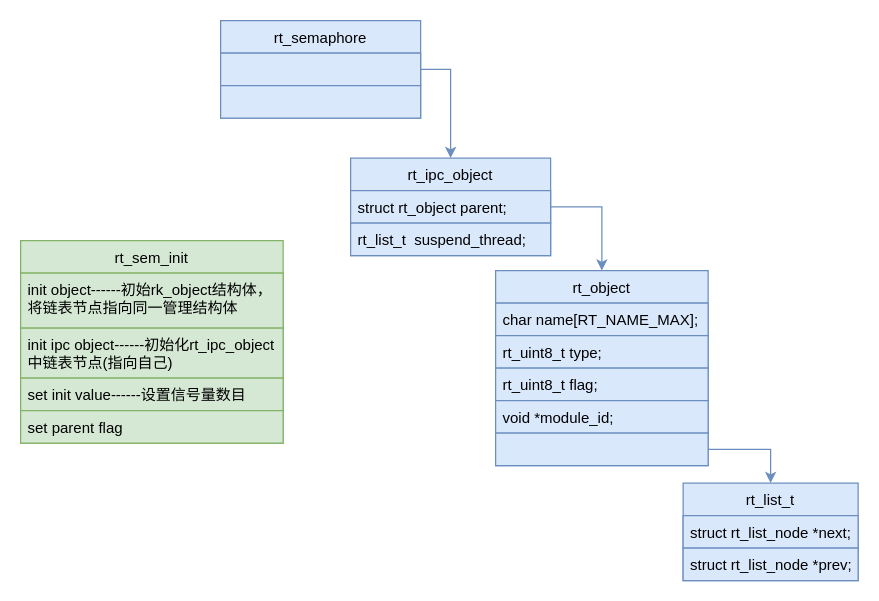
The diagram is 879 pixels wide and 601 high, and some of its shapes have lost their labels. The shapes that lost their labels are listed below. From the top down, each one's centre as x and y in pixels, then its label:
the point at 320,69: struct rt_ipc_object parent;
the point at 320,101: rt_uint16_t value;
the point at 601,449: rt_list_t list;
